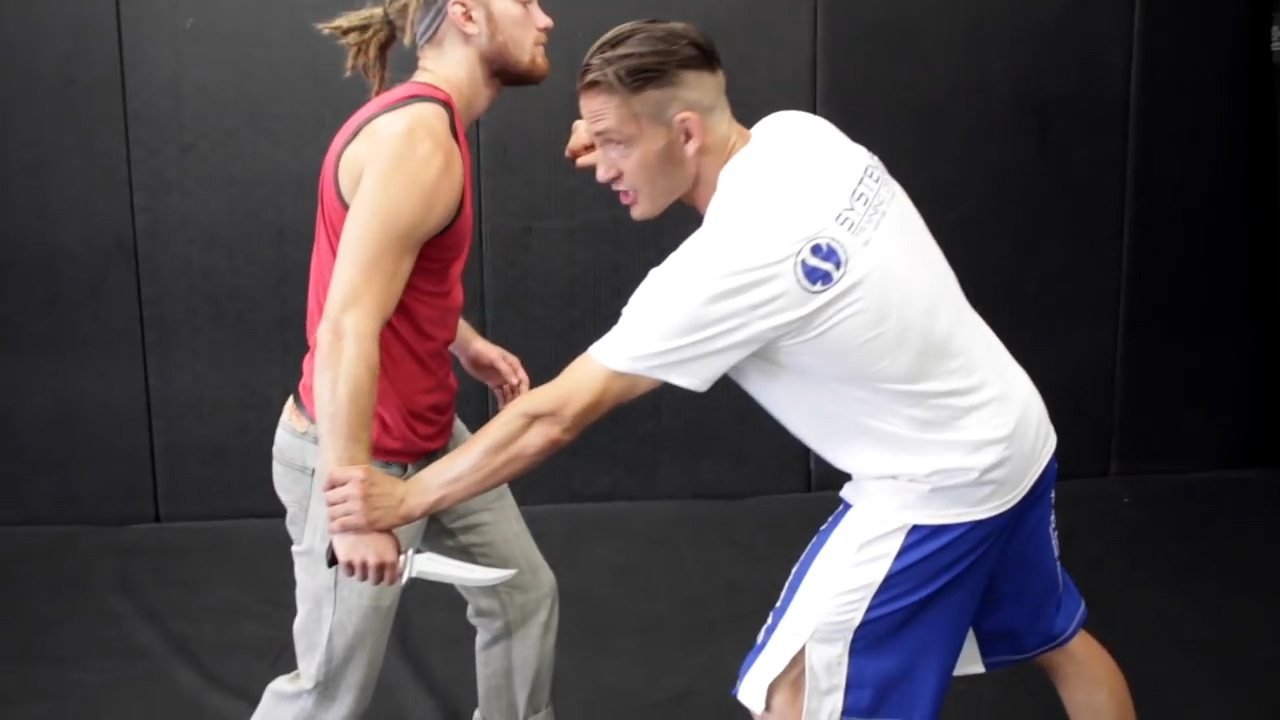knife: (317, 529, 524, 598)
